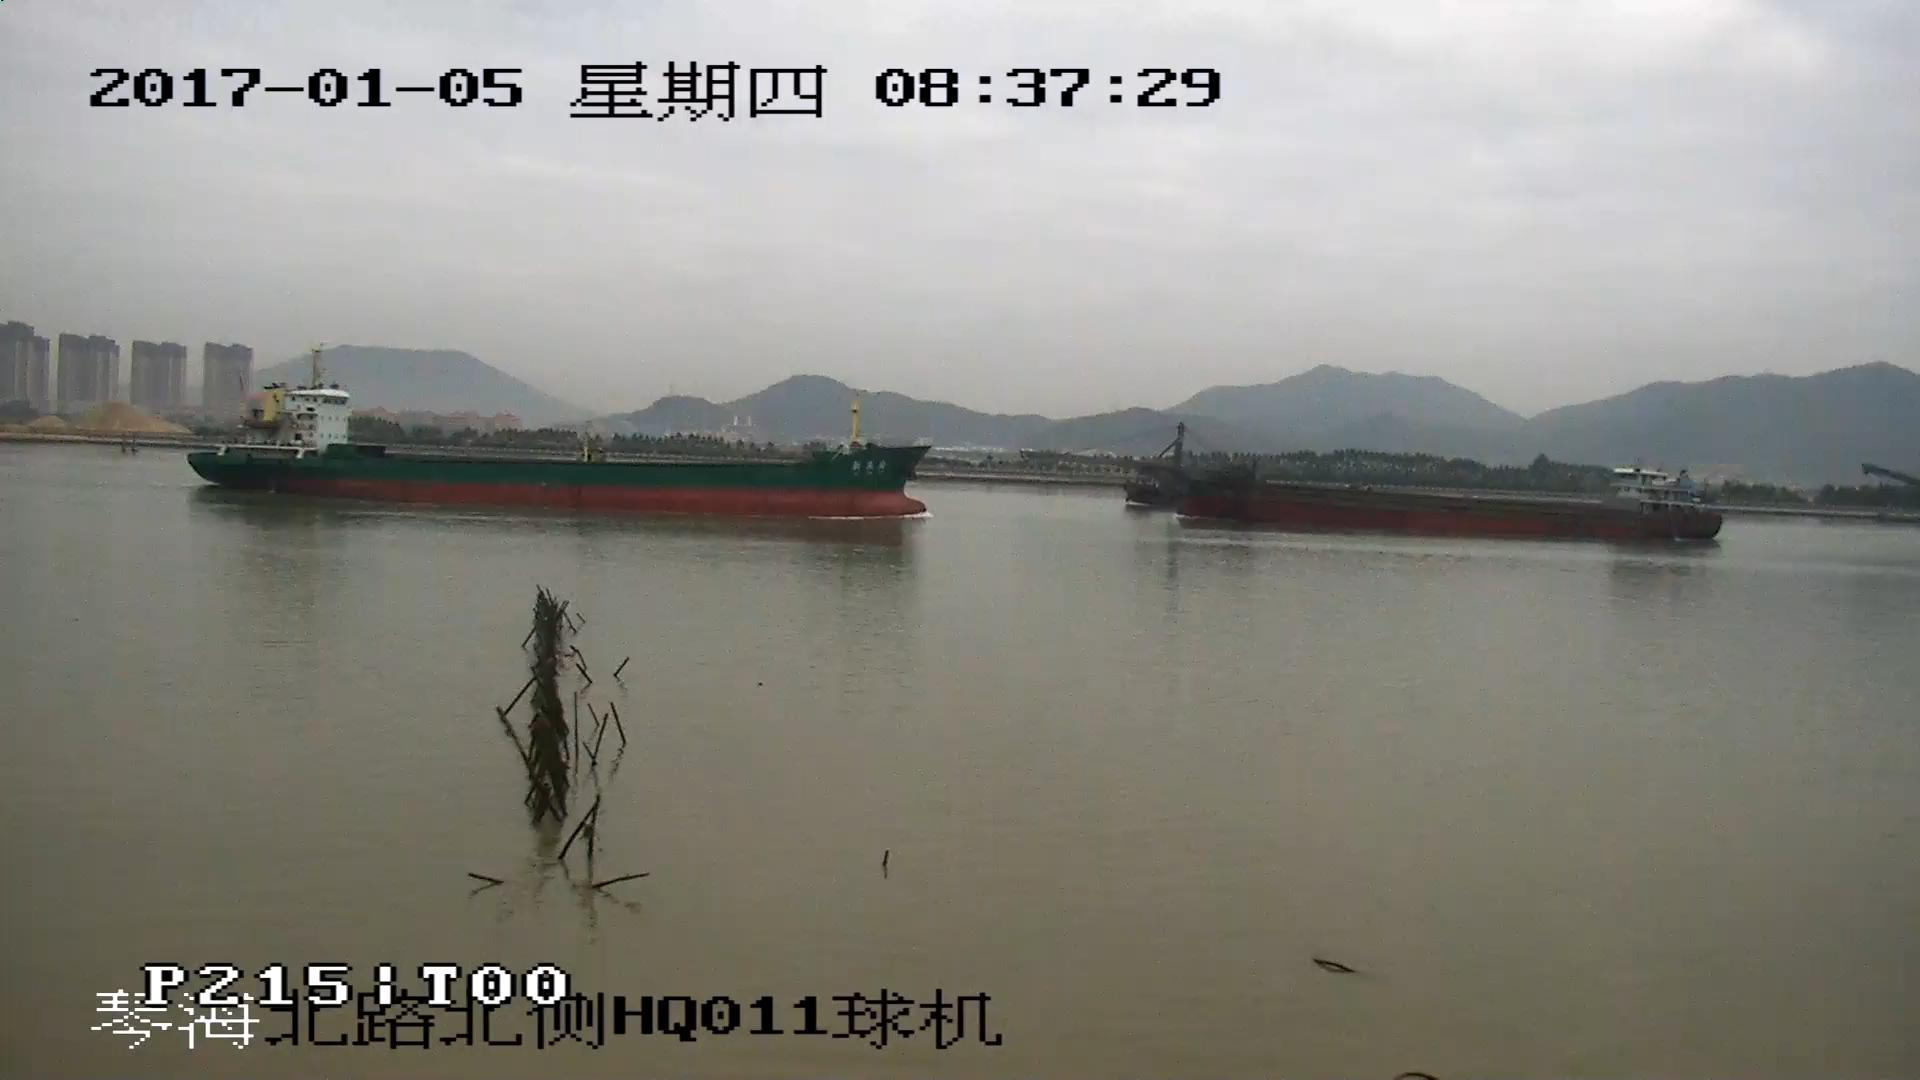Ship: (183, 349, 932, 524), (1106, 429, 1724, 542)
